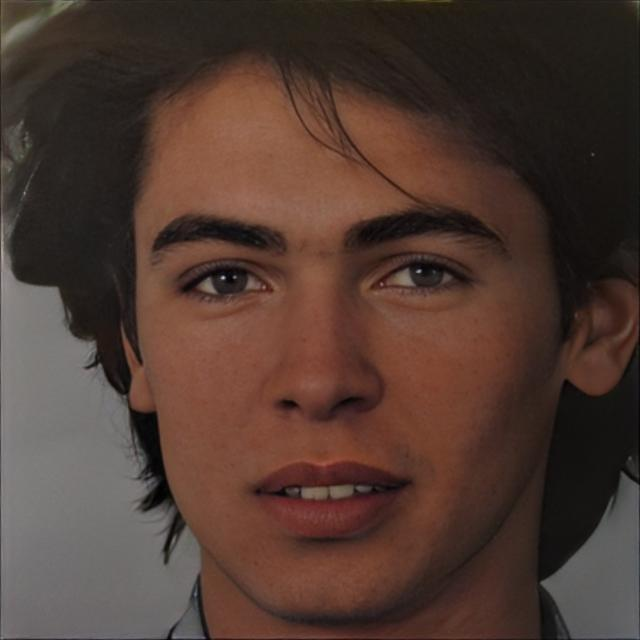neutral: (133, 61, 559, 626)
